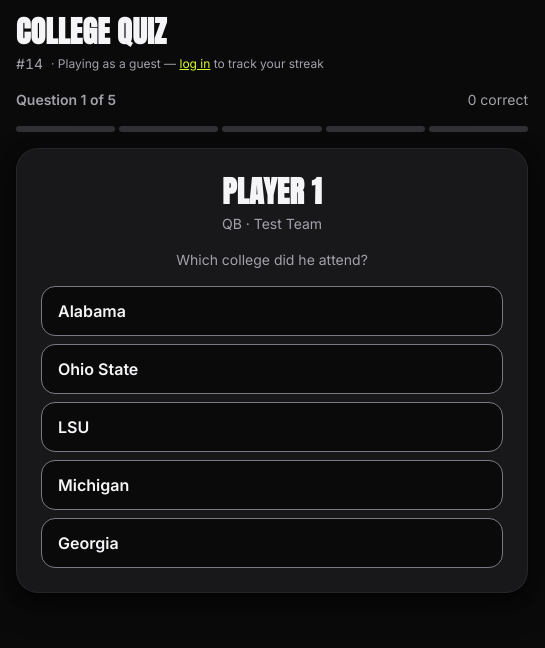
Test: CollegeQuizScreen — unhappy paths › surfaces a failed answer submission without losing the round
What coordinates should you click on to do the following:
click the button "Alabama"
I would click on:
 (92, 311)
Its box is [41,286,503,336].
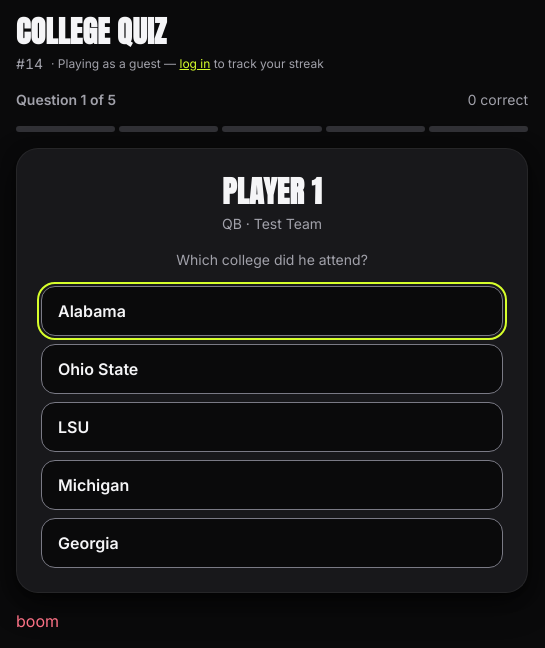
Expected: the text "Question 1 of 5" is shown, [16,90,116,110]
Expected: the message "boom" is shown, [16,611,59,631]
